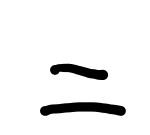eqv: (40, 64, 126, 116)
